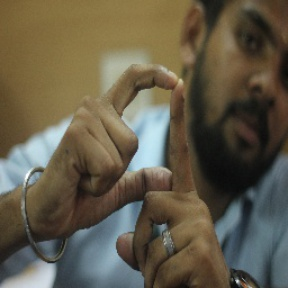D: (80, 58, 212, 217)
